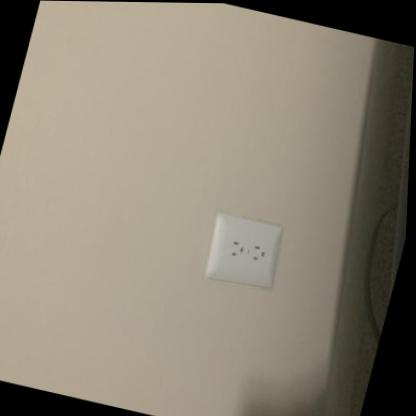OUTLET: (200, 209, 287, 292)
